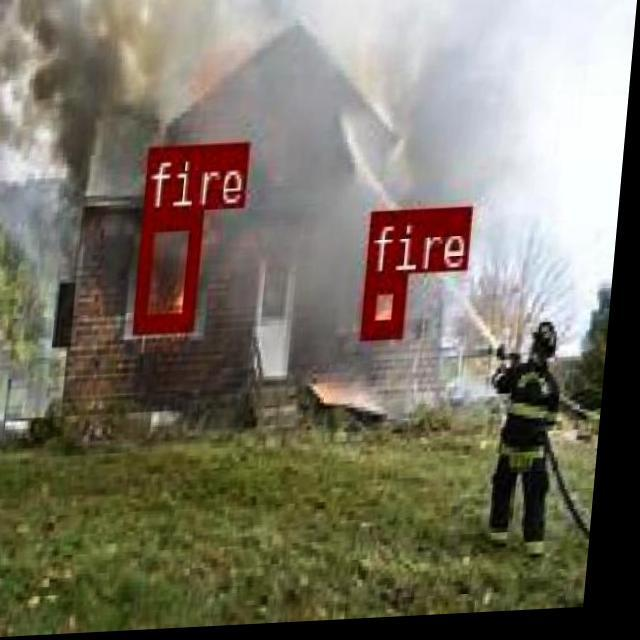Smoke: (0, 0, 578, 458)
